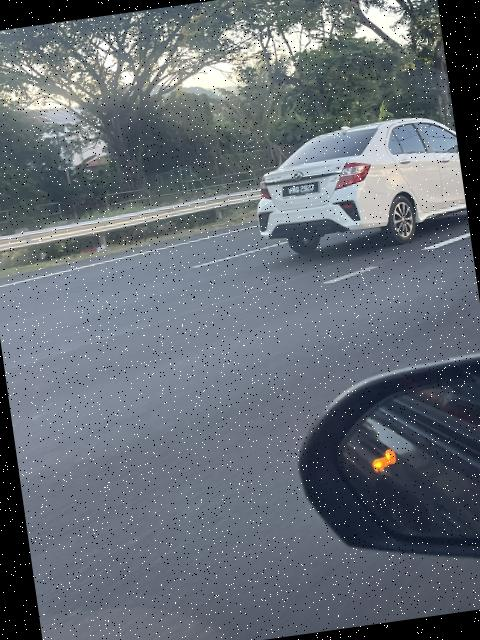License_Plate: (275, 180, 325, 204)
car: (231, 98, 471, 265)
